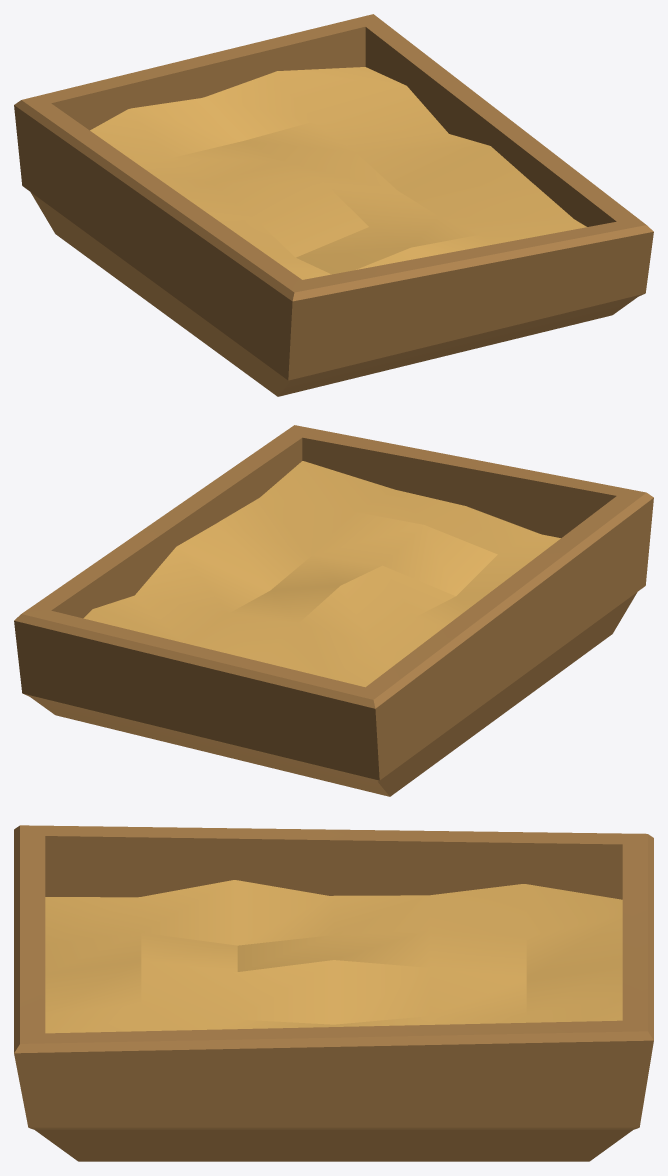
File: fooddish.glb
3 renders of one model, top to bottom at view 1: azimuth 30°, elevation 25°; view 2: azimuth 150°, elevation 25°; view 3: azimuth 270°, elevation 25°, orthographic. The views are drawn at different scales.
Parts seen in each view (by area): view 1: fooddish_a001.001; view 2: fooddish_a001.001; view 3: fooddish_a001.001.
Boxes of the visible parts, bbox=[...] form: fooddish_a001.001: bbox=[14, 14, 653, 396]; fooddish_a001.001: bbox=[14, 425, 653, 796]; fooddish_a001.001: bbox=[14, 825, 653, 1161].
Bounding box in the file's own units: 0.7674 × 0.2537 × 1.02.
